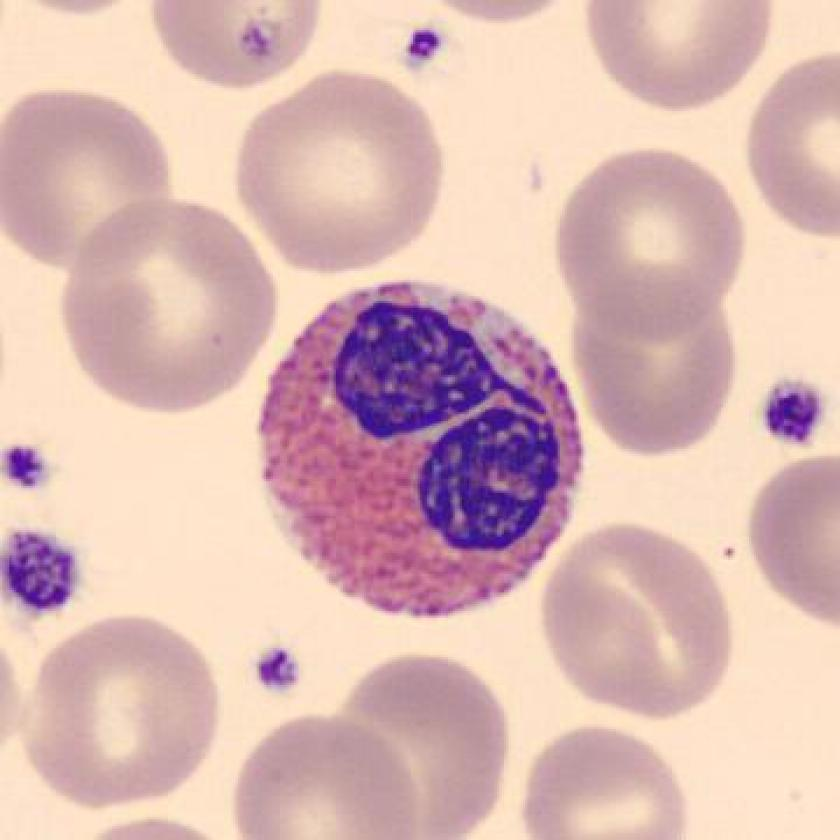eosinophil: (239, 269, 603, 635)
